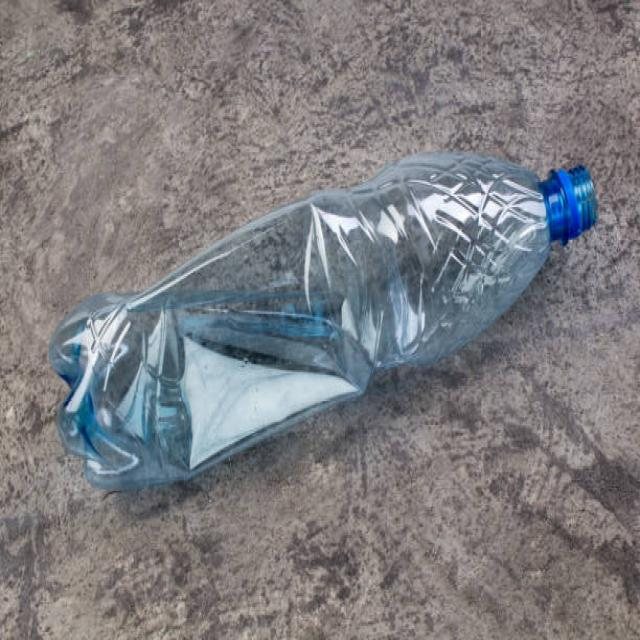plastic: (51, 155, 594, 458)
